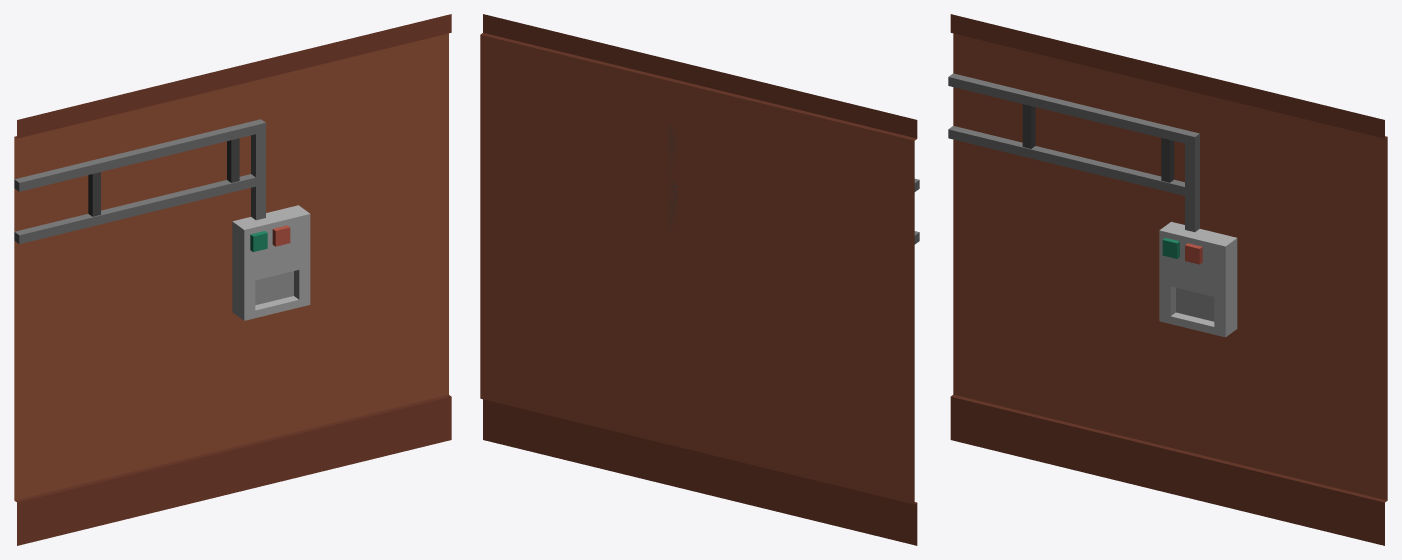
The model's file is AI_Env_Wall_Red_Electronics_End.fbx.
The picture shows the model from 3 angles, left to right: view 1: azimuth 30°, elevation 25°; view 2: azimuth 150°, elevation 25°; view 3: azimuth 330°, elevation 25°; orthographic projection.
Visible parts, largest first — view 1: AI_Env_Wall_Red_Electronics_End; view 2: AI_Env_Wall_Red_Electronics_End; view 3: AI_Env_Wall_Red_Electronics_End.
Boxes of the visible parts, left/top/right/bottom form: AI_Env_Wall_Red_Electronics_End: left=14, top=14, right=451, bottom=545; AI_Env_Wall_Red_Electronics_End: left=480, top=14, right=919, bottom=545; AI_Env_Wall_Red_Electronics_End: left=948, top=14, right=1387, bottom=545.
Bounding box in the file's own units: 5 × 4.69 × 0.2941.
